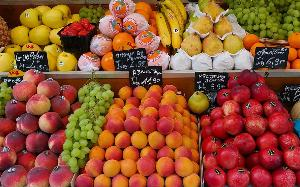apple: (0, 0, 90, 72)
apricot: (82, 79, 200, 187)
banana: (153, 0, 189, 48)
orange: (73, 1, 172, 74), (242, 12, 300, 70)
peach: (198, 70, 299, 187), (1, 63, 84, 187)
pear: (182, 0, 256, 72)
